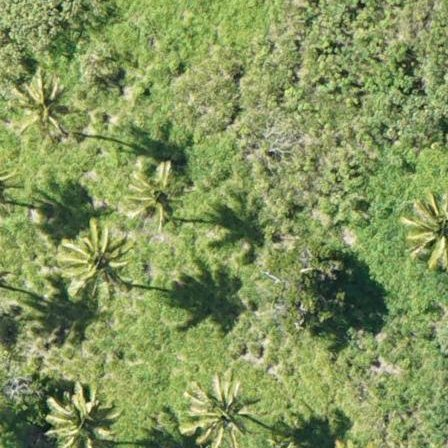palm_tree: (39, 377, 119, 448), (60, 215, 132, 292), (183, 370, 255, 447), (395, 179, 448, 275), (9, 69, 74, 138), (122, 155, 184, 221)
